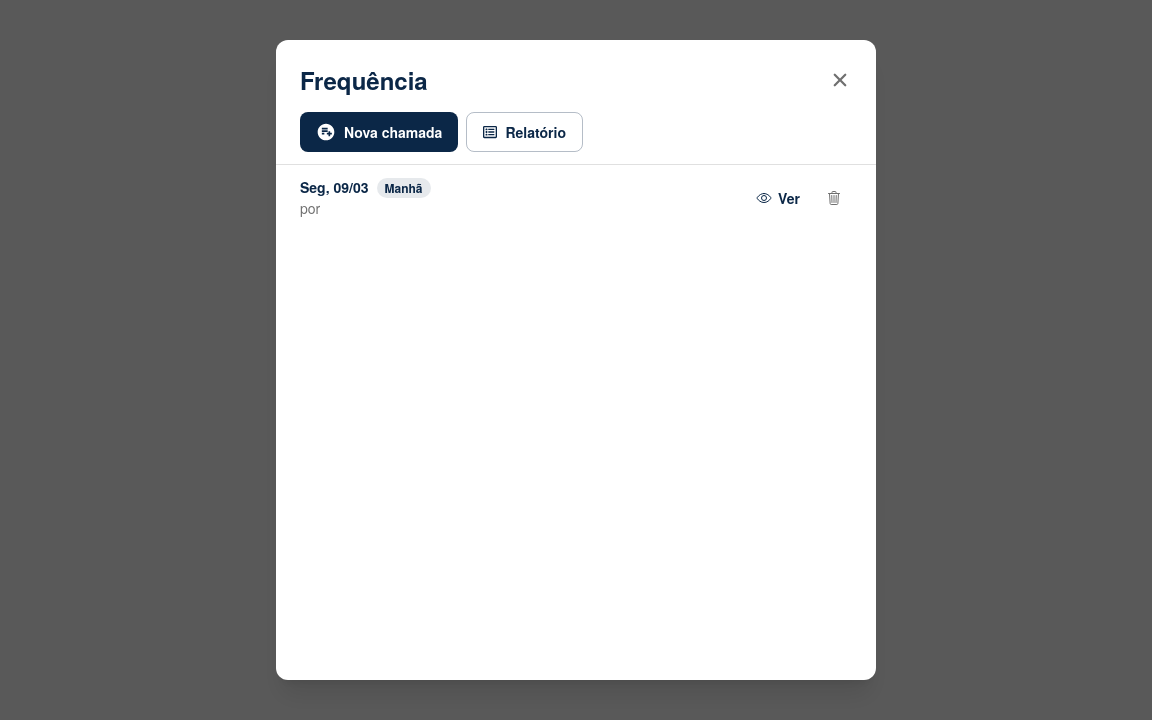
Test case: excluir chamada (tickets-documentacao, 11) › ⚠️ erro: avisa, fecha a confirmação e mantém o registro
The image size is (1152, 720).
Click the button named "Excluir" at (834, 198), box [816,180,852,216]
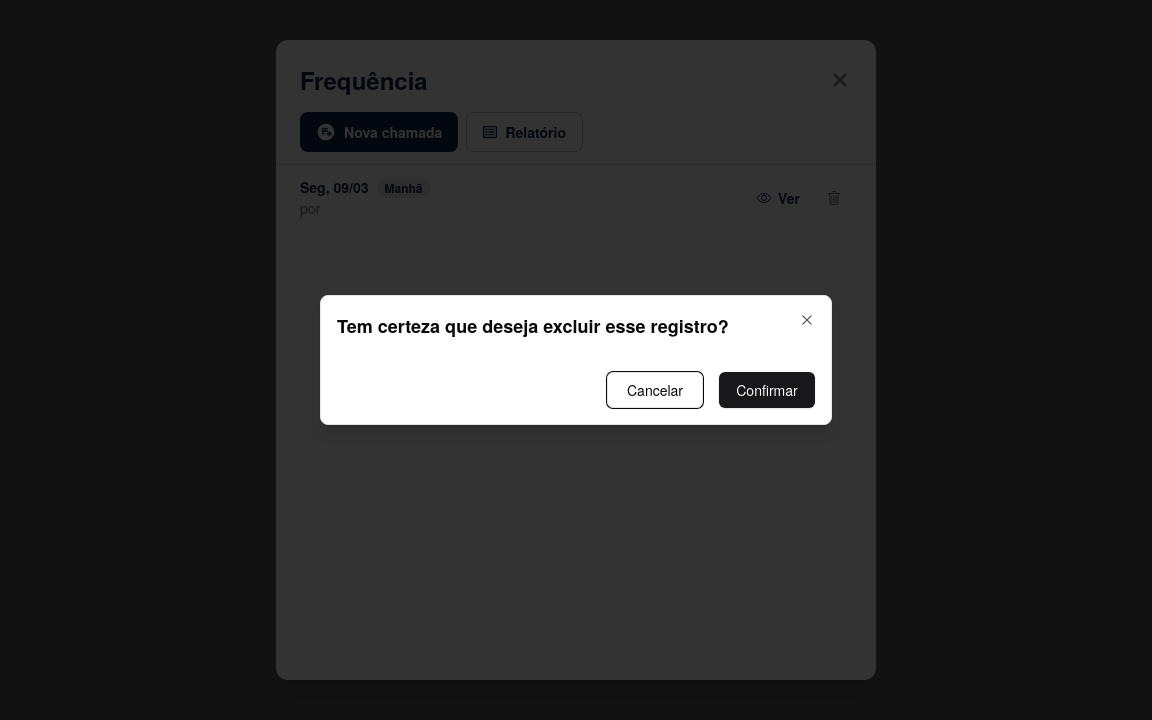
Click the button "Confirmar" at (767, 390), box [719,372,815,408]
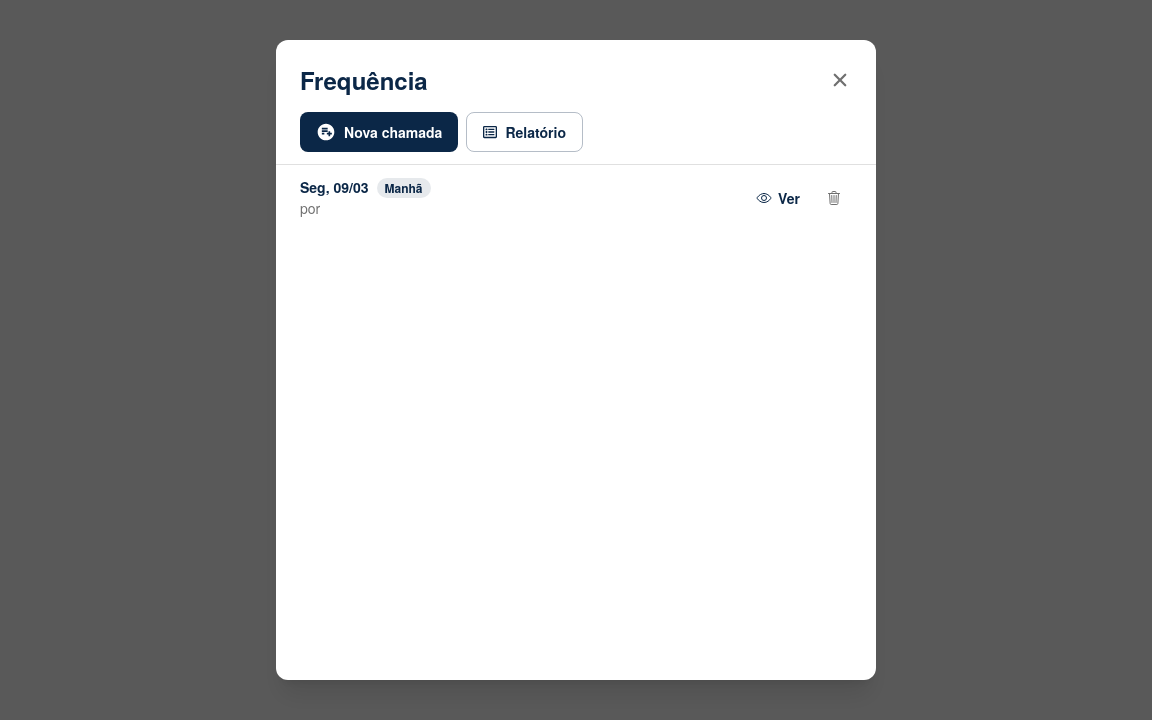
Expected: the button named "Excluir" is shown, [816,180,852,216]
Expected: the heading "Tem certeza que deseja excluir esse registro?" is gone
